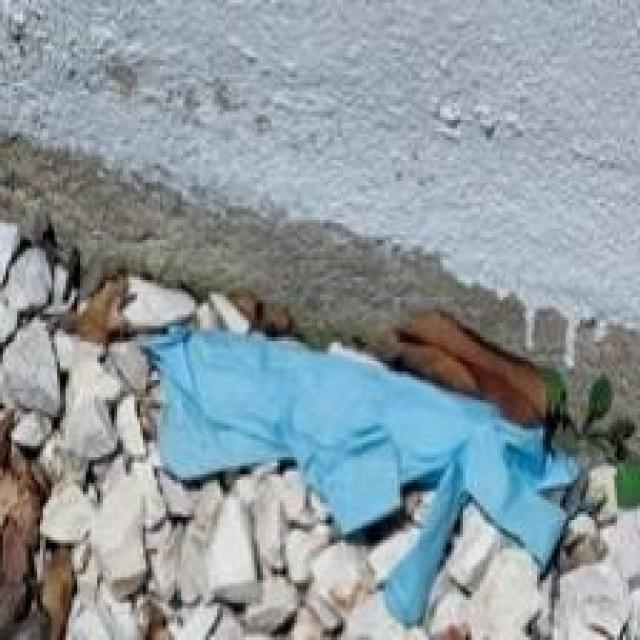Glove: (135, 263, 577, 621)
